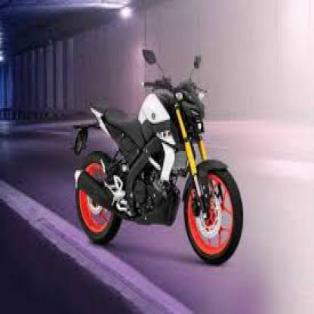Motocicleta: (64, 44, 248, 270)
